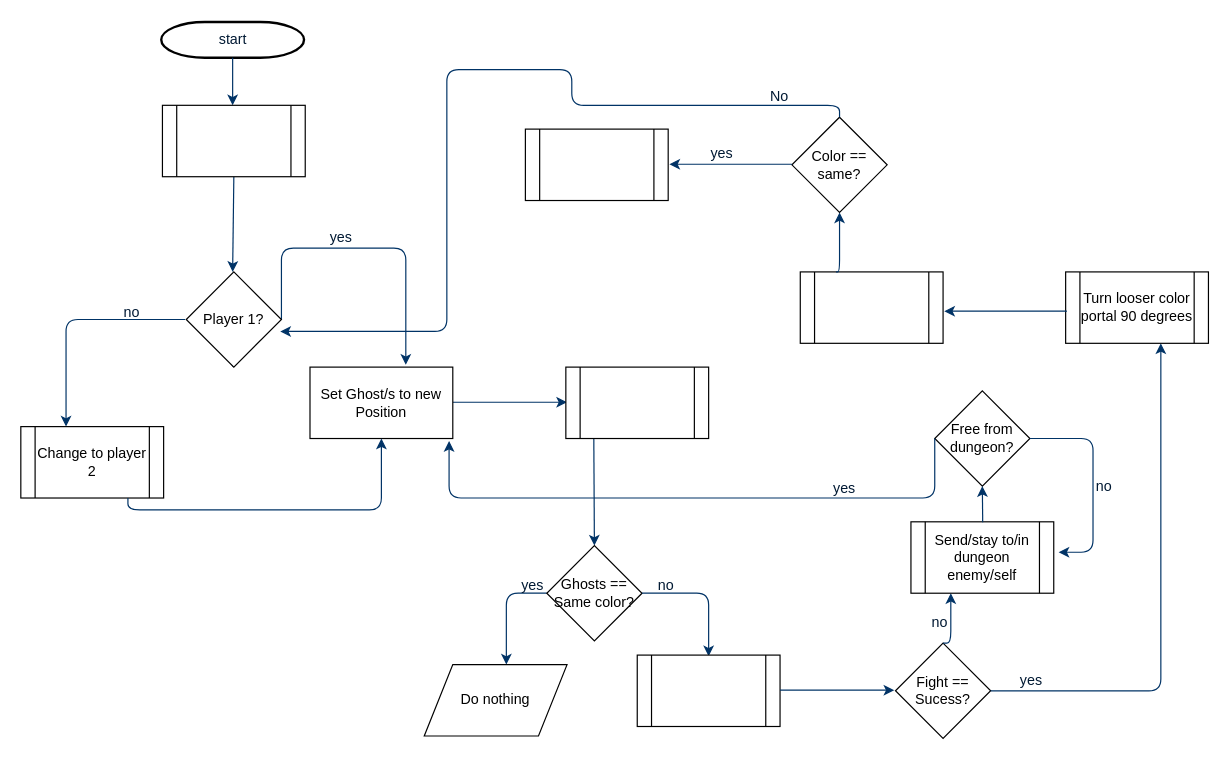
Some shapes in this 1229 by 759 pixel diagram are drawn without their labels. Here are the shapes that lost their labels. From the top down, the box of each, then its label:
(161, 104, 305, 177): Call function GameLoop()
(524, 128, 668, 201): Ghost escape
(799, 271, 943, 343): Check nearby ghosts with same color as portal
(565, 366, 709, 439): Check player Ghosts in the same house
(636, 654, 780, 726): Check Color conditions for fight
